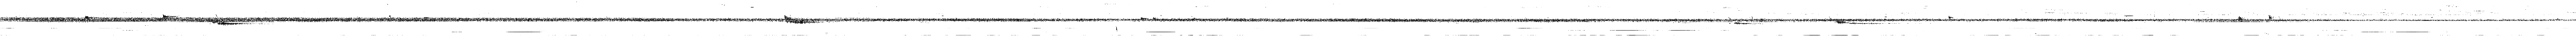meteor: (785, 15, 823, 23), (218, 21, 245, 25), (1948, 16, 1953, 18)
